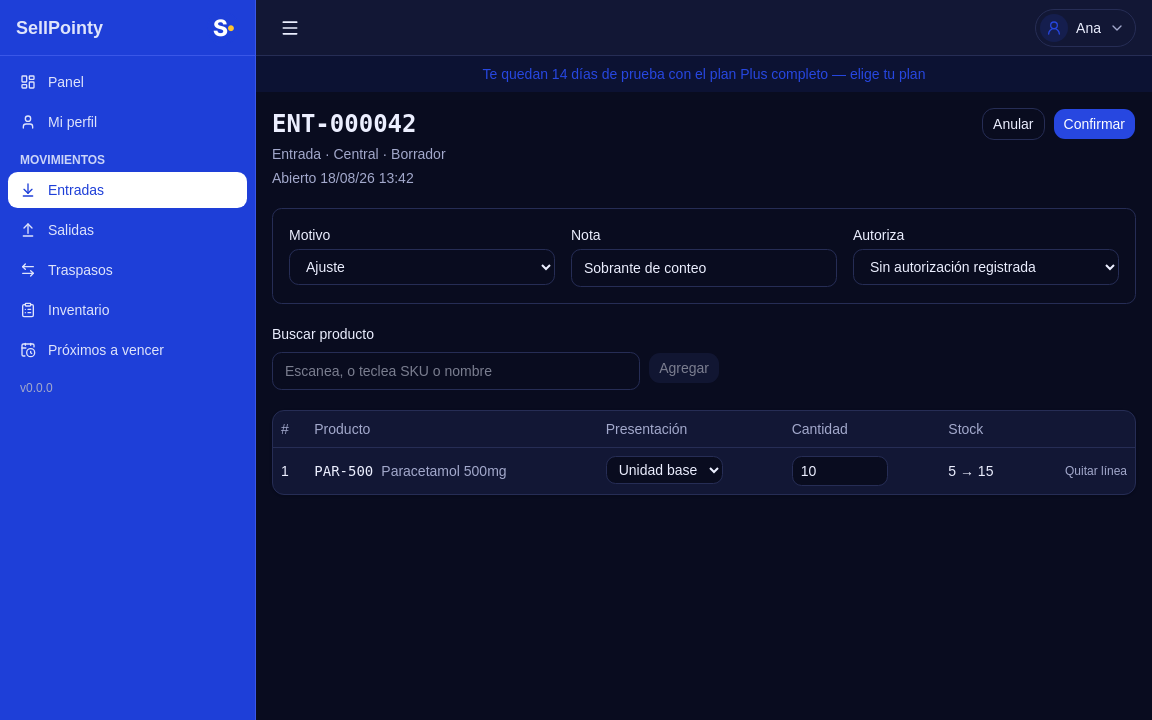
el diálogo de confirmar habla en plural o singular › con una línea: «Se registrará 1 línea»
Expected: the text "PAR-500" is shown, [314,461,373,481]
Click the button "Confirmar" at (1094, 124), box [1052,108,1136,140]
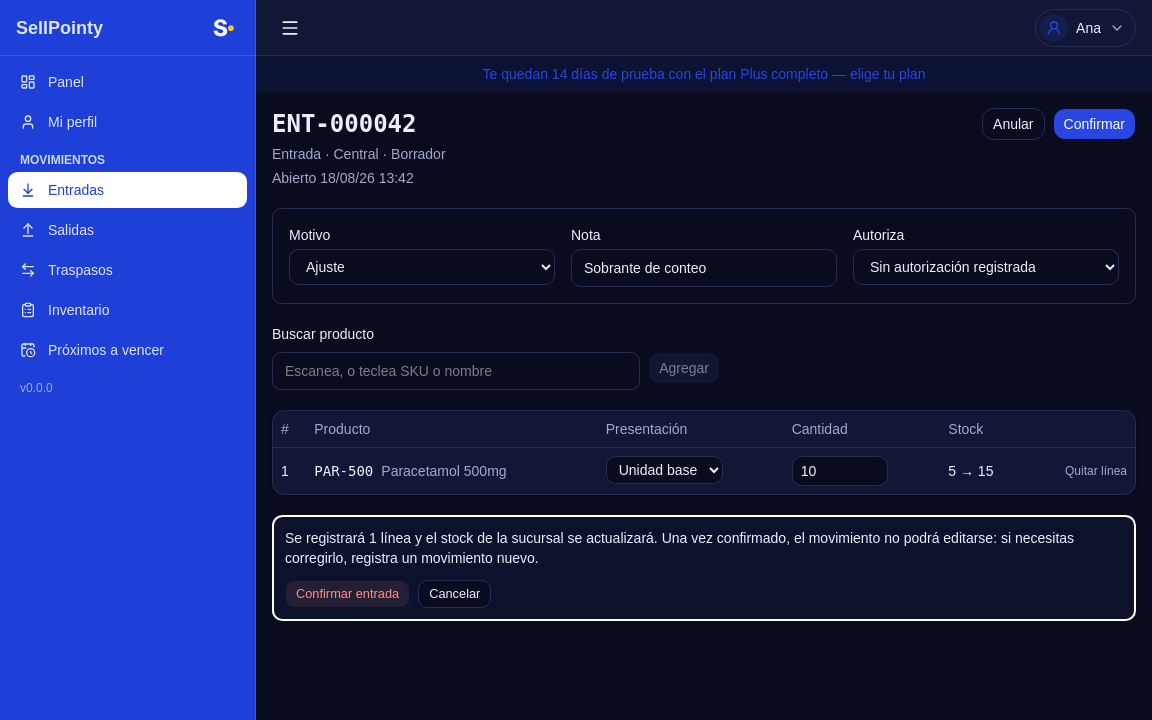
Expected: the text "Se registrará 1 línea y el stock" is shown, [285,530,1074,566]
